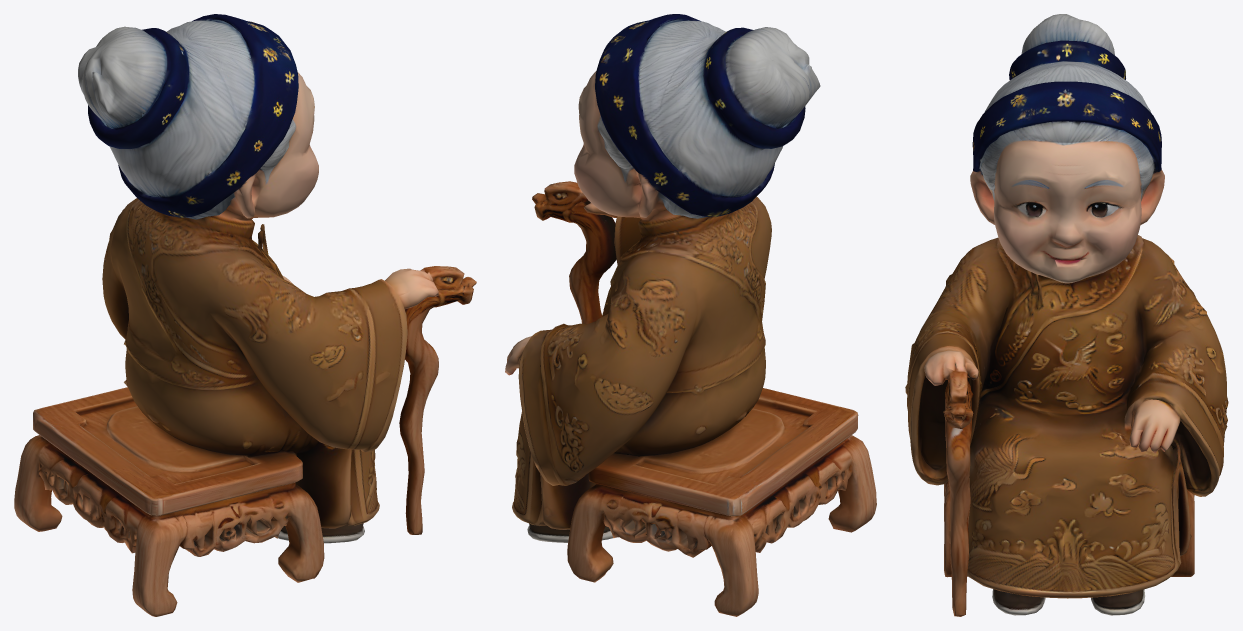
File: jiamu.glb
The picture shows the model from 3 angles, left to right: view 1: azimuth 30°, elevation 25°; view 2: azimuth 150°, elevation 25°; view 3: azimuth 270°, elevation 25°; orthographic projection. The views are drawn at different scales.
Visible parts, largest first — view 1: tripo_node_8f114679-f2bf-4506-8e7a-faff5ce1a5a8; view 2: tripo_node_8f114679-f2bf-4506-8e7a-faff5ce1a5a8; view 3: tripo_node_8f114679-f2bf-4506-8e7a-faff5ce1a5a8.
Part boxes in pixels (box(x1,y1,x2,y2)): tripo_node_8f114679-f2bf-4506-8e7a-faff5ce1a5a8: box(14, 14, 476, 616); tripo_node_8f114679-f2bf-4506-8e7a-faff5ce1a5a8: box(505, 14, 876, 616); tripo_node_8f114679-f2bf-4506-8e7a-faff5ce1a5a8: box(905, 14, 1228, 616).
Bounding box in the file's own units: 0.6707 × 1 × 0.5821.
1 material, 1 textured.
